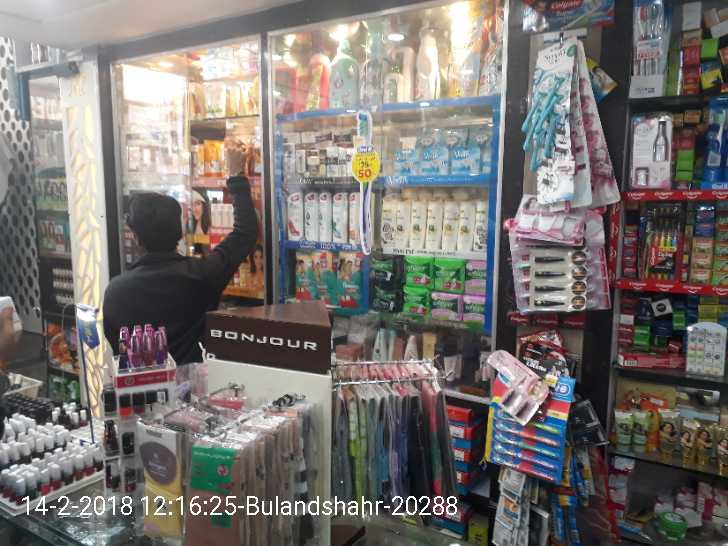gillete: (578, 449, 594, 497), (559, 450, 575, 495), (552, 504, 563, 546)
venus: (517, 69, 565, 176), (575, 75, 613, 207), (450, 144, 480, 174), (419, 146, 450, 174), (390, 146, 419, 174), (443, 125, 467, 144), (416, 125, 439, 144), (470, 124, 492, 143)
